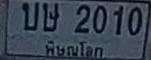0: (92, 4, 106, 33), (127, 6, 141, 34)
1: (114, 5, 122, 34)
2: (74, 4, 89, 32)
A26: (21, 1, 38, 30)
A39: (42, 2, 58, 31)
PLK: (43, 38, 105, 60)
